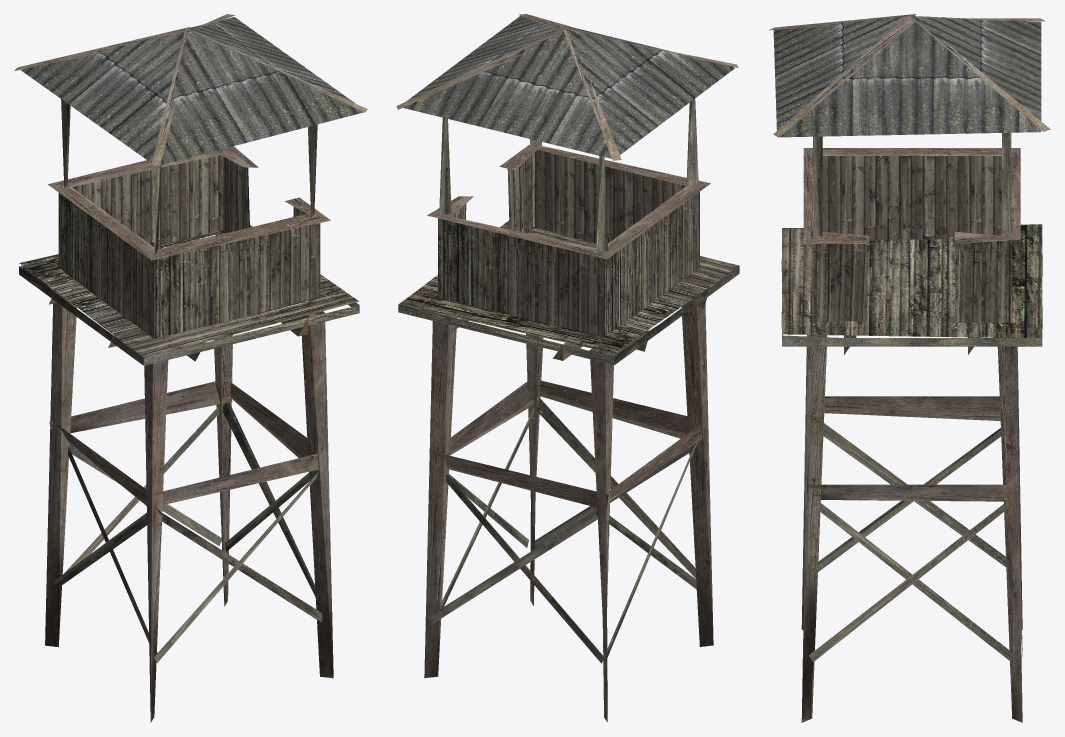
Rendered from post tower.FBX.
3 views of the same model, side by side, from view 1: azimuth 30°, elevation 25°; view 2: azimuth 150°, elevation 25°; view 3: azimuth 270°, elevation 25° (orthographic). The views are drawn at different scales.
Parts seen in each view (by area): view 1: post; view 2: post; view 3: post.
Boxes of the visible parts, bbox=[...] form: post: bbox=[14, 14, 367, 722]; post: bbox=[396, 14, 739, 722]; post: bbox=[769, 14, 1050, 722].
Bounding box in the file's own units: 115 × 304 × 118.
